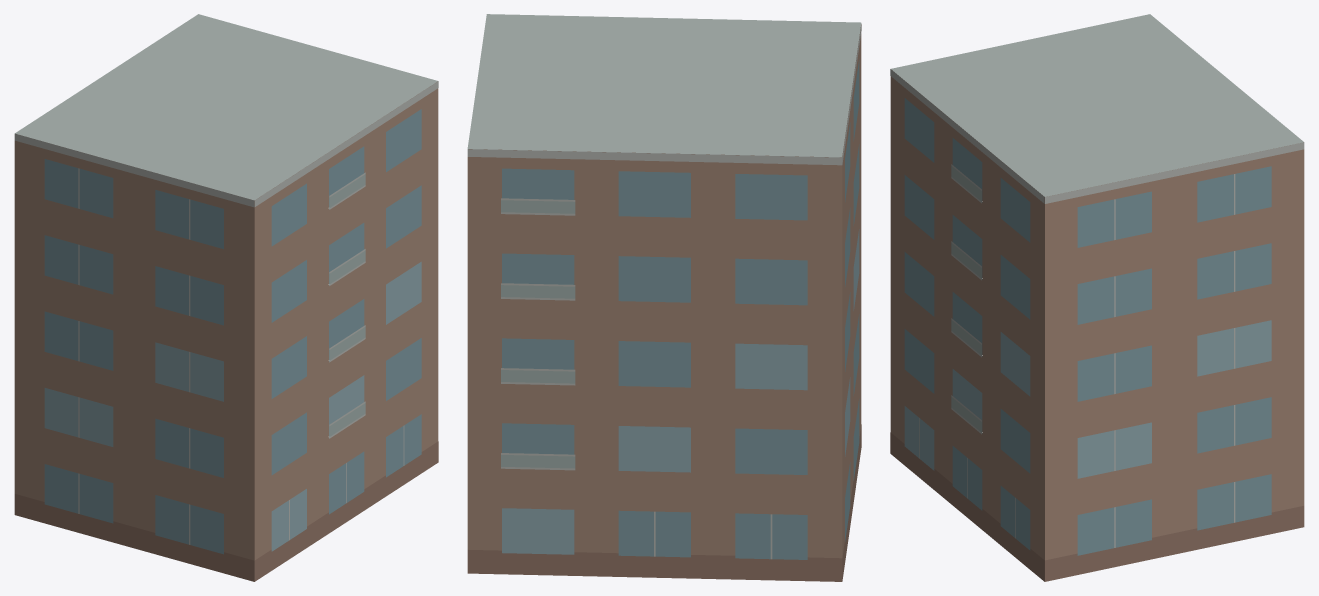
Rendered from survey-upis-33040103.glb.
The picture shows the model from 3 angles, left to right: view 1: azimuth 30°, elevation 25°; view 2: azimuth 150°, elevation 25°; view 3: azimuth 270°, elevation 25°; orthographic projection. The views are drawn at different scales.
Parts seen in each view (by area): view 1: survey-upis-33040103.tmp; view 2: survey-upis-33040103.tmp; view 3: survey-upis-33040103.tmp.
Boxes of the visible parts, left/top/right/bottom form: survey-upis-33040103.tmp: left=14, top=14, right=438, bottom=581; survey-upis-33040103.tmp: left=467, top=14, right=861, bottom=581; survey-upis-33040103.tmp: left=890, top=14, right=1304, bottom=581.
Size of the model in its own units: 13.47 by 13.2 by 12.87.
